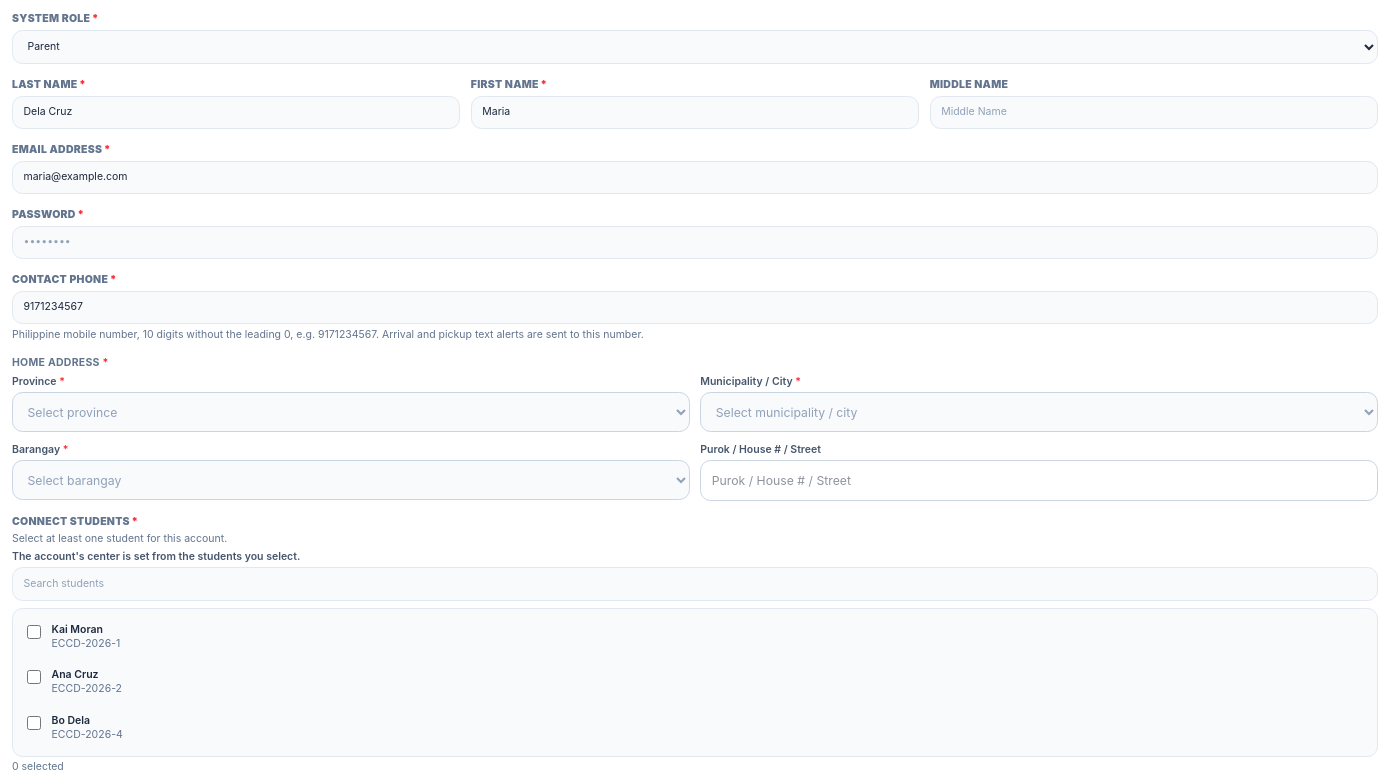
Test case: AccountForm students set a Parent/Guardian's center (Admin) › narrows the list to that student's center once one is ticked, and shows the center
Click the checkbox labelled "Kai Moran ECCD-2026-1" at (34, 632), box 27,624 -> 41,638
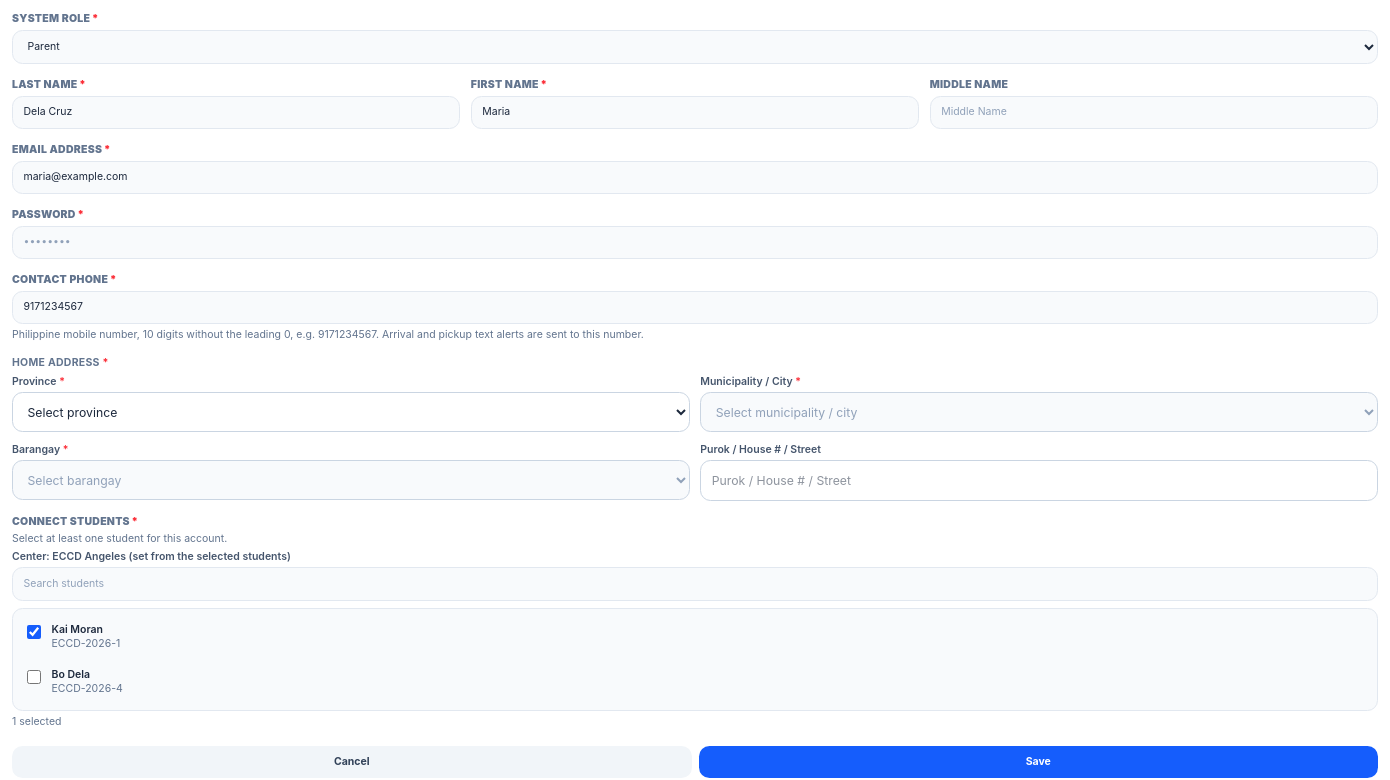
expect the text "Center: ECCD Angeles (set from the selected students)" is shown: met, box 12,550 -> 291,563
